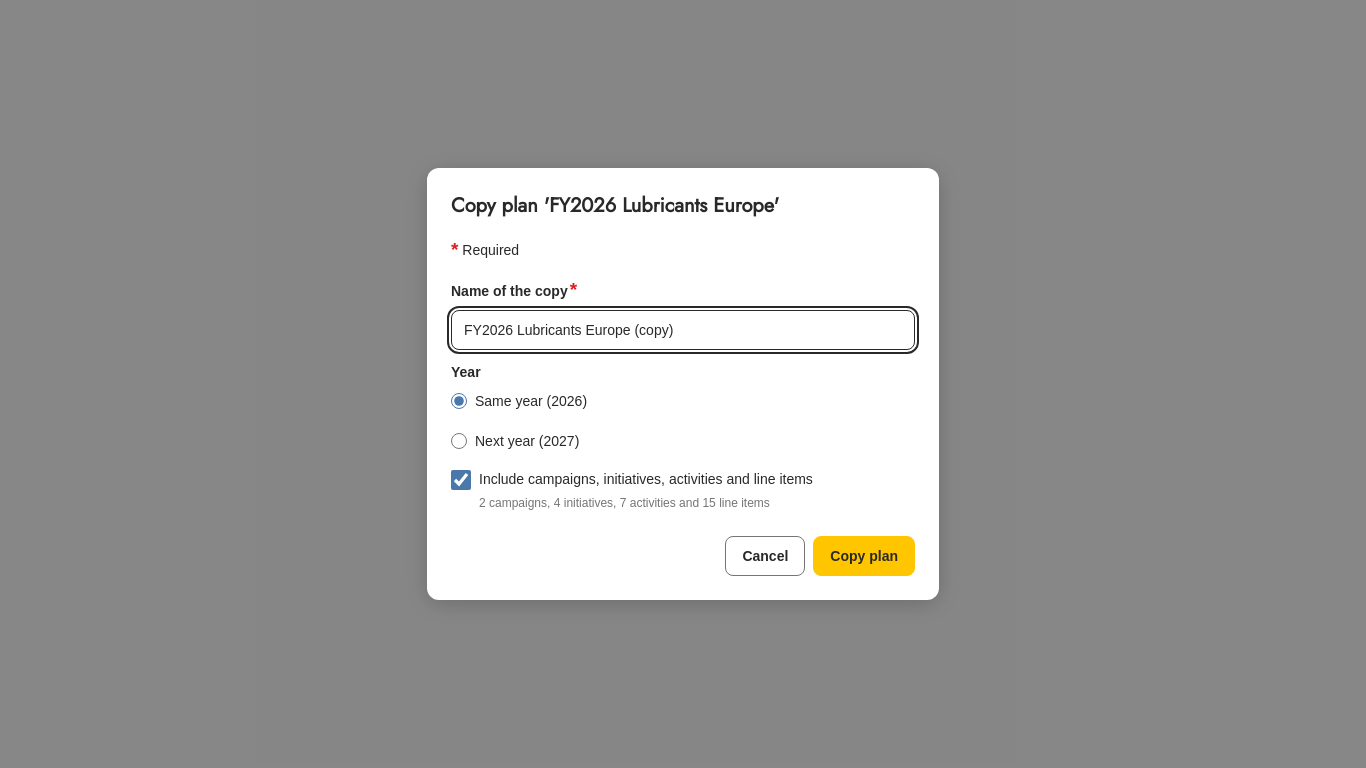
Test: CopyPlanDialog (US6#1–2, FR-026 – FR-028) › shows a refusal that is not about one field above the form
This screenshot has width=1366, height=768.
Expected: the field labelled "Name of the copy" is shown, [451, 310, 915, 350]
Click the button "Copy plan".
click(864, 556)  # box [813, 536, 915, 576]
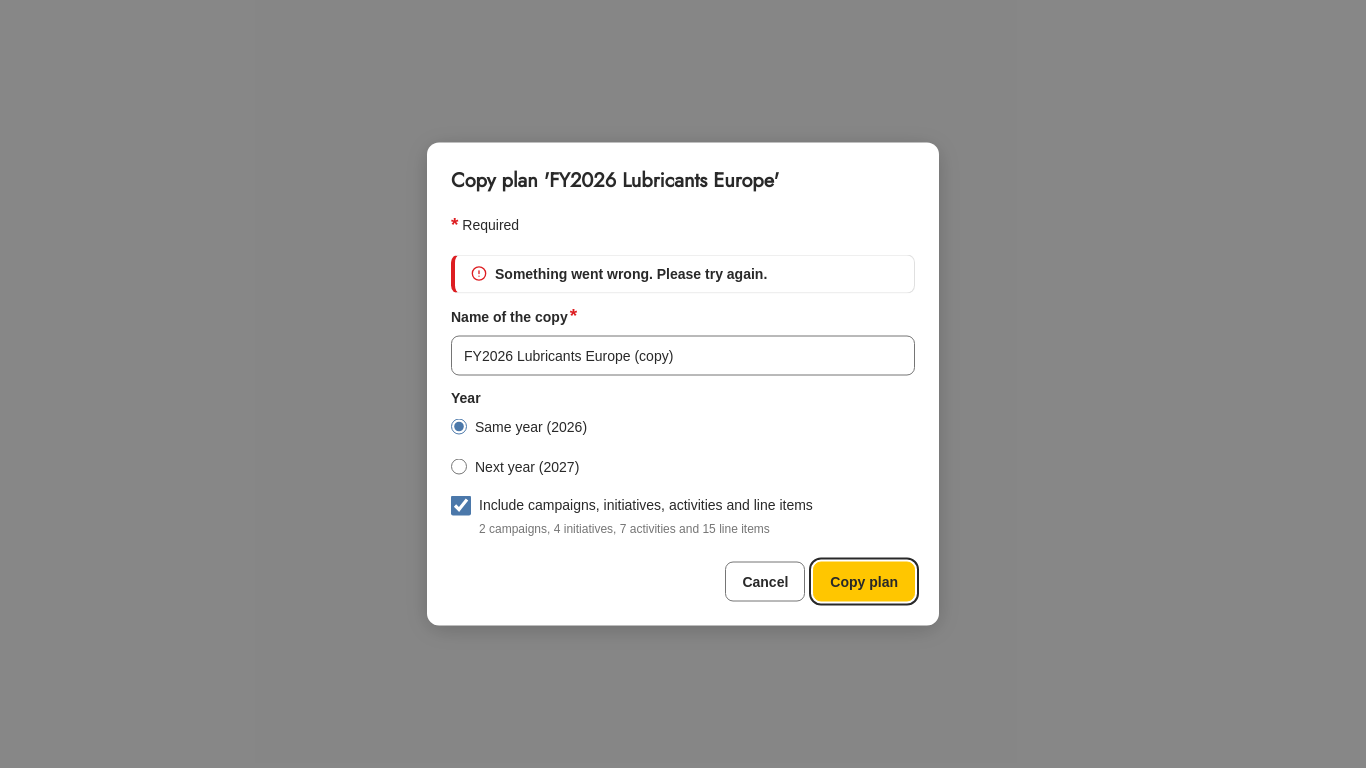
Expected: the message reads "Something went wrong. Please try again.", [495, 266, 767, 282]
